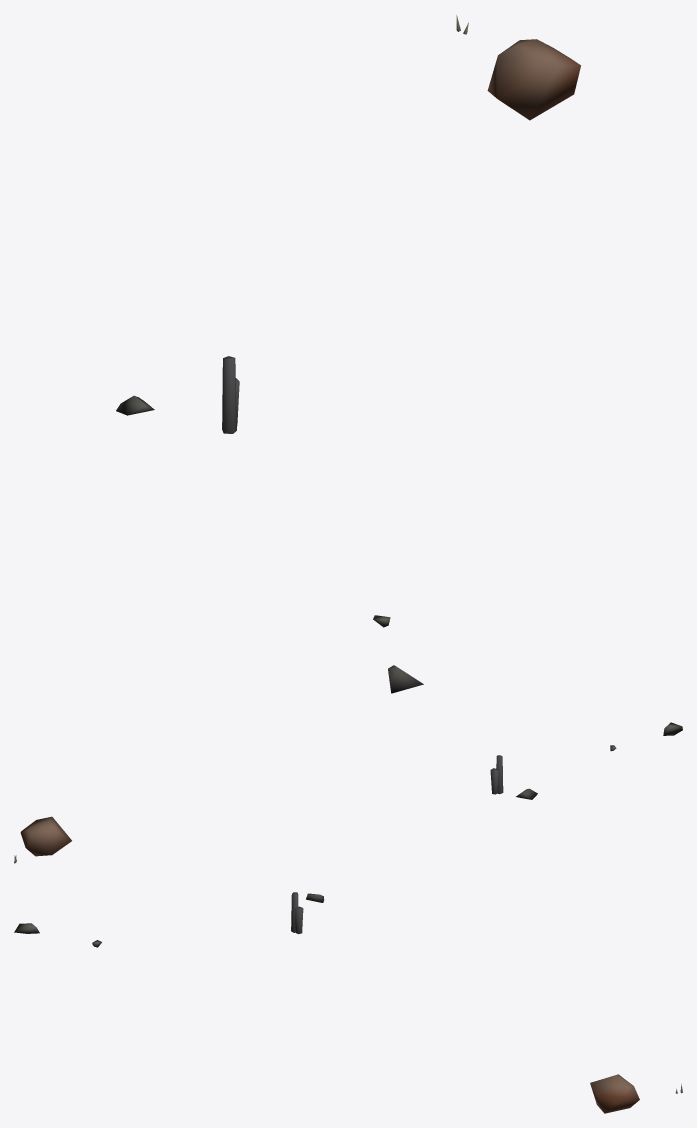
The model's file is ash_land_scatter_c22_29_lod1.glb.
3 renders of one model, top to bottom at view 1: azimuth 30°, elevation 25°; view 2: azimuth 150°, elevation 25°; view 3: azimuth 270°, elevation 25°, orthographic. The views are drawn at different scales.
Visible parts, largest first — view 1: ash_land_scatter_c22_29_lod1; view 2: ash_land_scatter_c22_29_lod1; view 3: ash_land_scatter_c22_29_lod1.
Boxes of the visible parts, x1,y1,x2,y2 form: ash_land_scatter_c22_29_lod1: [116, 15, 580, 693]; ash_land_scatter_c22_29_lod1: [14, 722, 682, 863]; ash_land_scatter_c22_29_lod1: [14, 892, 682, 1113].
Size of the model in its own units: 37.19 by 5.81 by 54.81.
